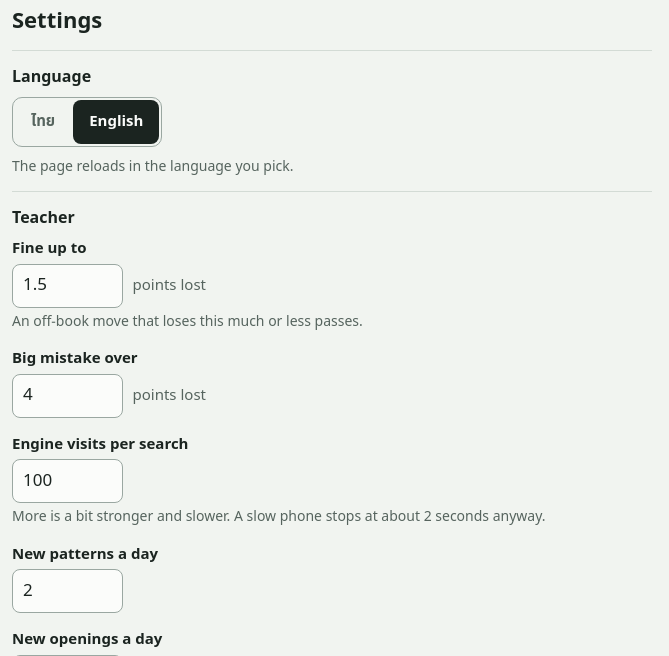
Test: Settings › Language › says so when the browser will not keep the choice
Click the radio button labelled "ไทย" at x=43, y=121, box [31,110,55,133]
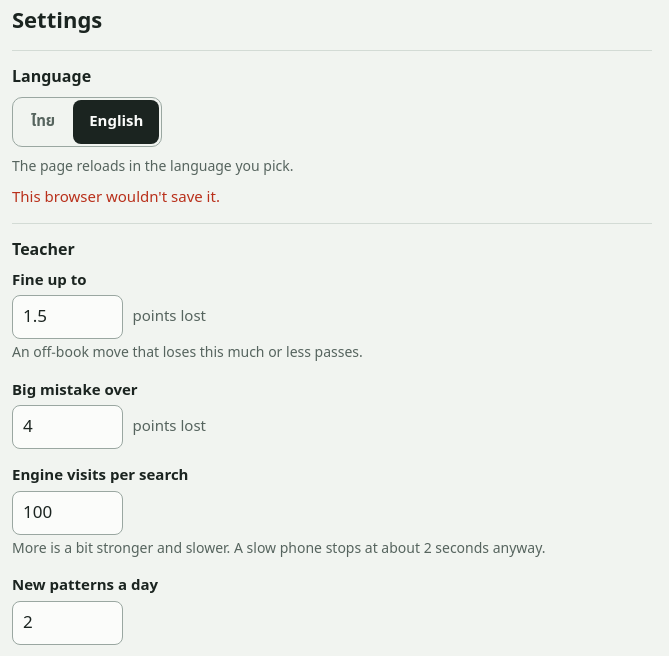
Expected: the message reads "This browser wouldn't save it.", [12,186,220,209]
